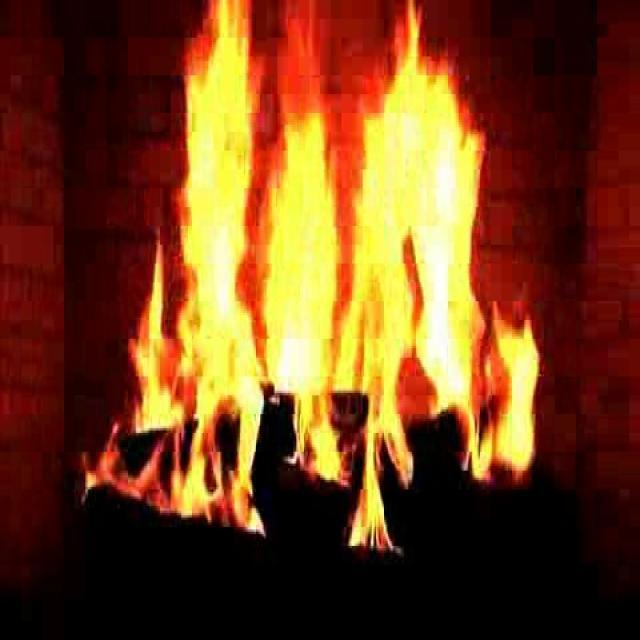Fire: (143, 47, 524, 515)
